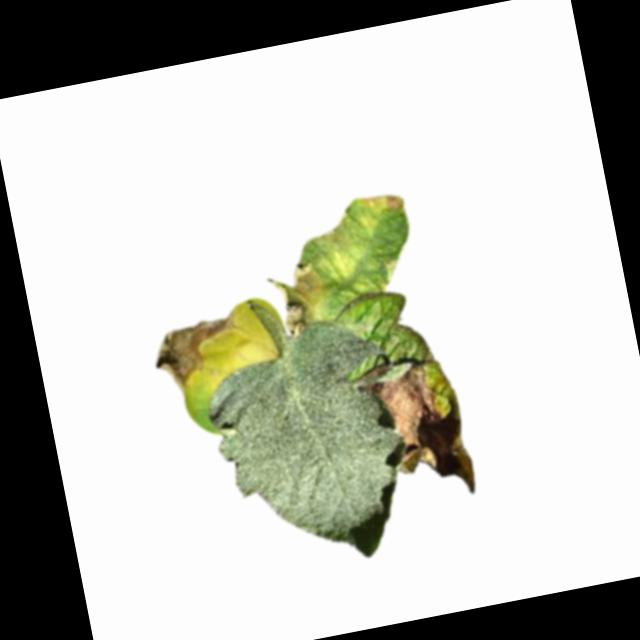Late_blight: (369, 357, 450, 477), (145, 309, 249, 396), (261, 256, 335, 339), (358, 187, 407, 220)
healthy: (195, 314, 415, 580)
